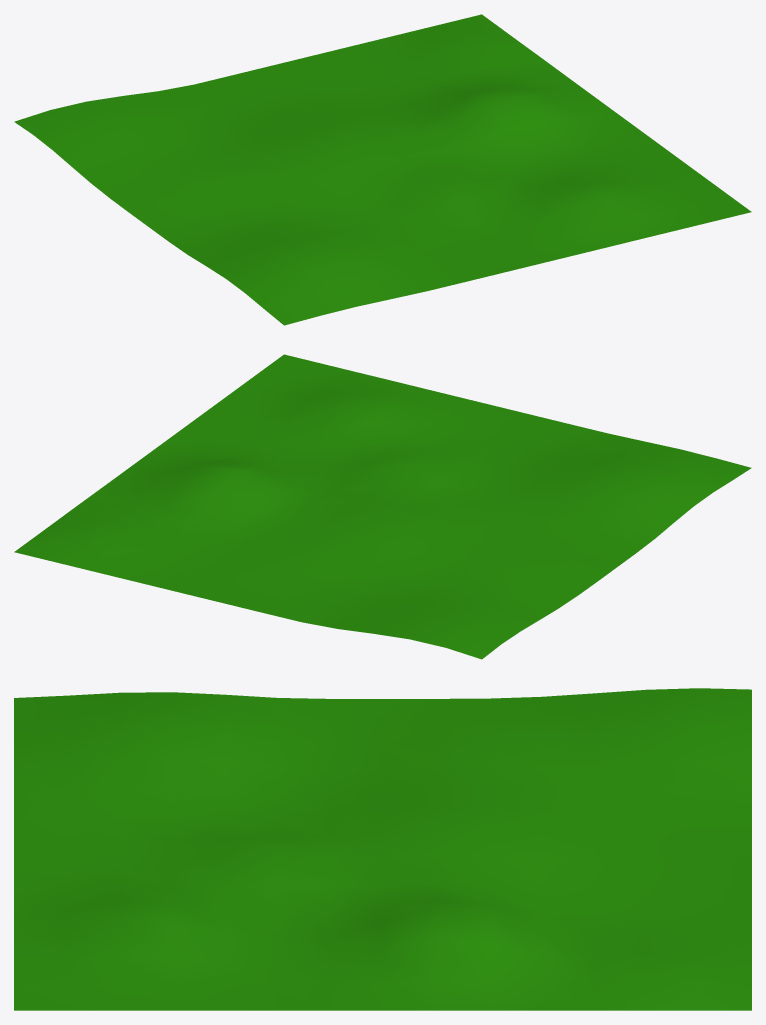
The model's file is MyTerrain-large.fbx.
3 views of the same model, one above another, from view 1: azimuth 30°, elevation 25°; view 2: azimuth 150°, elevation 25°; view 3: azimuth 270°, elevation 25° (orthographic). The views are drawn at different scales.
Visible parts, largest first — view 1: Plane; view 2: Plane; view 3: Plane.
Boxes of the visible parts, x1,y1,x2,y2 form: Plane: (14, 14, 751, 325); Plane: (14, 354, 751, 659); Plane: (14, 688, 751, 1010).
Size of the model in its own units: 20124 by 944 by 20118.
